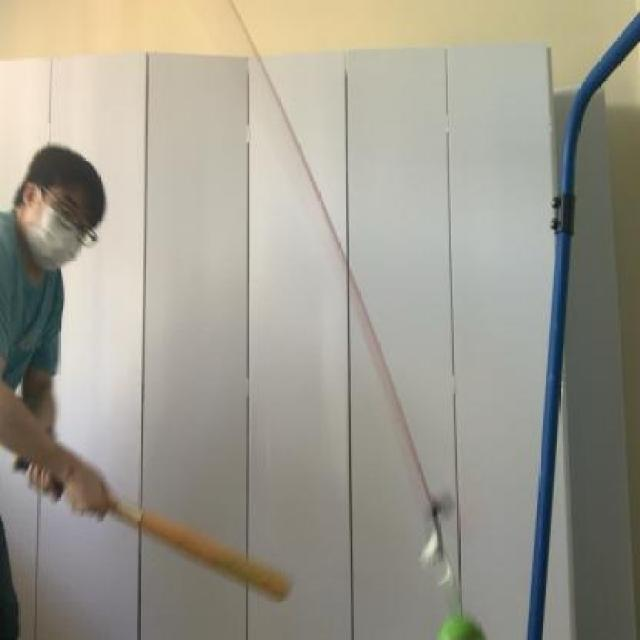baseball: (430, 611, 499, 640)
